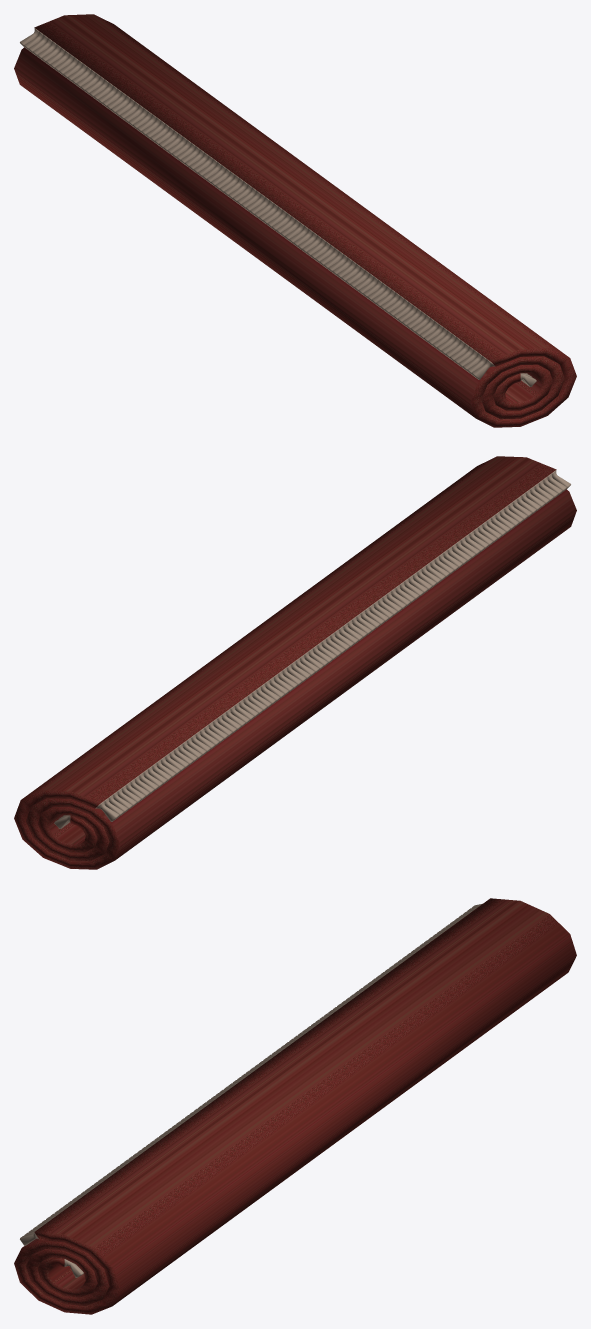
Rendered from Rug-HQ.fbx.
The picture shows the model from 3 angles, top to bottom: view 1: azimuth 30°, elevation 25°; view 2: azimuth 150°, elevation 25°; view 3: azimuth 330°, elevation 25°; orthographic projection.
Visible parts, largest first — view 1: Rug HQ, Fringe ext; view 2: Rug HQ, Fringe ext; view 3: Rug HQ, Fringe ext.
Part boxes in pixels (bbox=[...]): Rug HQ: bbox=[14, 14, 576, 427]; Fringe ext: bbox=[20, 28, 495, 379]; Rug HQ: bbox=[14, 456, 576, 869]; Fringe ext: bbox=[95, 470, 570, 821]; Rug HQ: bbox=[14, 898, 576, 1314]; Fringe ext: bbox=[20, 904, 481, 1245].
Bounding box in the file's own units: 27 × 18.77 × 199.
